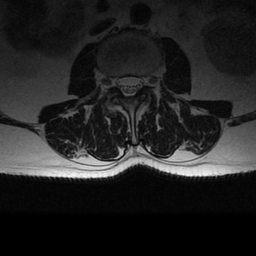CCS_normal: (125, 65, 133, 106)
LFS_normal: (142, 63, 151, 94)
LLS_normal: (133, 65, 142, 100)
RFS_normal: (105, 65, 115, 97)
RLS_normal: (115, 66, 125, 97)
